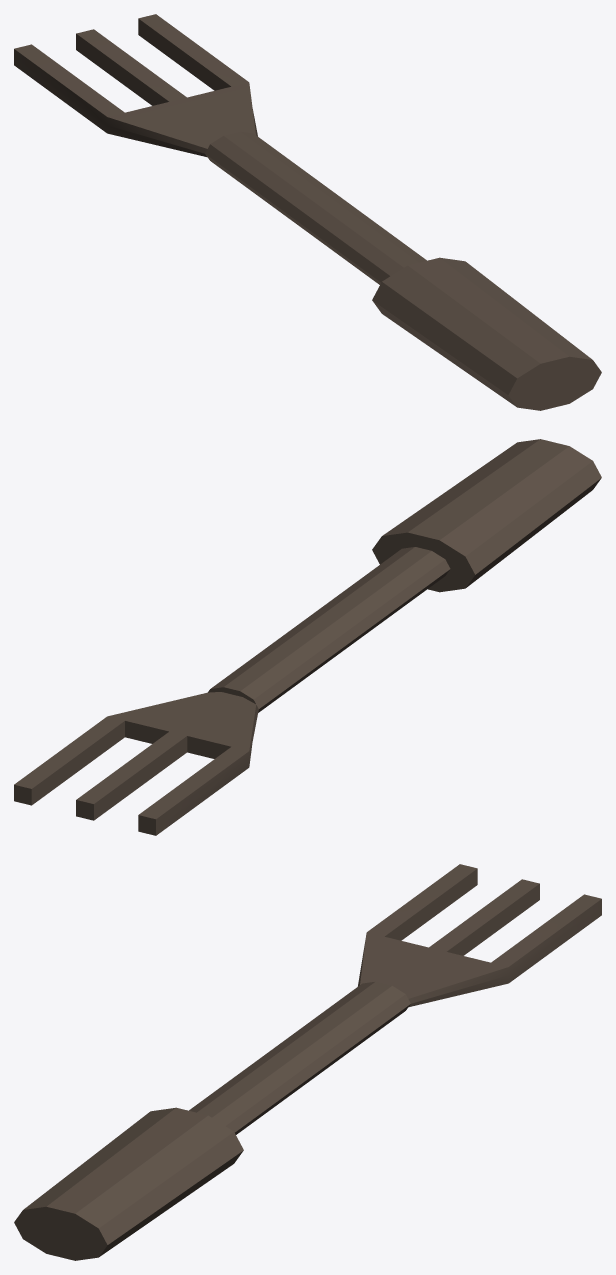
The model's file is Fork.fbx.
3 views of the same model, one above another, from view 1: azimuth 30°, elevation 25°; view 2: azimuth 150°, elevation 25°; view 3: azimuth 330°, elevation 25° (orthographic).
Visible parts, largest first — view 1: Fork; view 2: Fork; view 3: Fork.
Boxes of the visible parts, <box> form: Fork: <box>14,14,601,410</box>; Fork: <box>14,439,601,835</box>; Fork: <box>14,864,601,1260</box>.
Size of the model in its own units: 0.0264 by 0.00922 by 0.1512.
